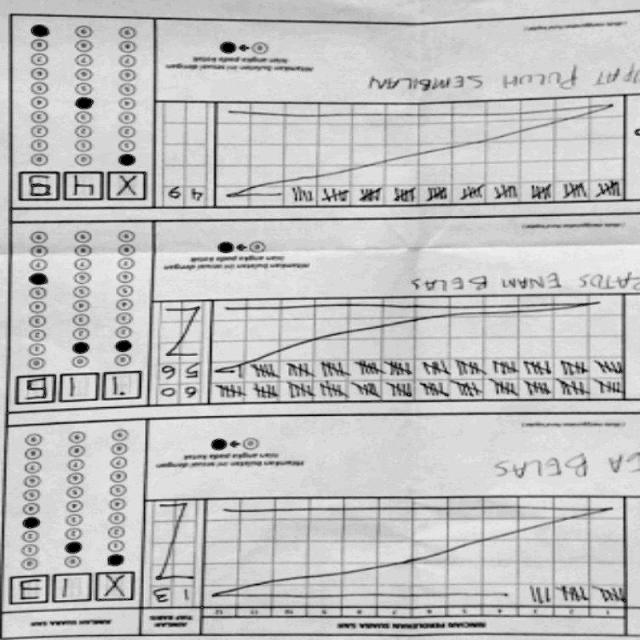Suara: (17, 168, 151, 207), (8, 574, 138, 608), (15, 373, 147, 405)
